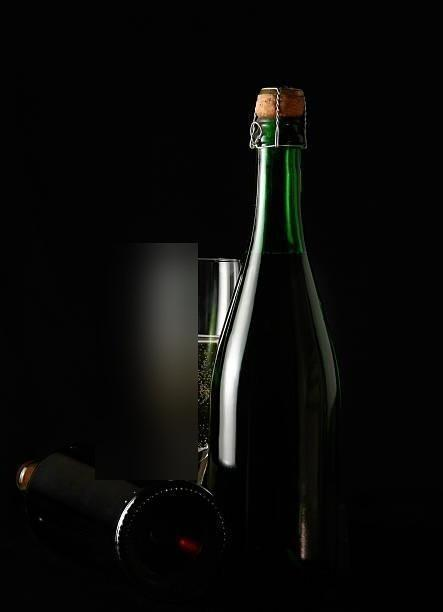bottle-glass: (209, 82, 346, 603)
